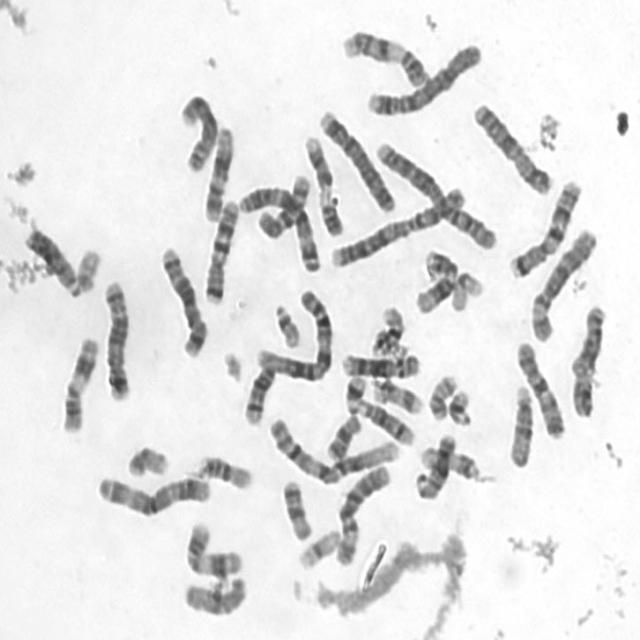A1: (264, 409, 398, 487), (250, 283, 335, 382)
A2: (368, 134, 500, 252), (325, 178, 468, 270)
A3: (232, 178, 322, 274), (91, 467, 212, 518)
B4: (361, 35, 484, 118), (313, 102, 398, 214)
B5: (154, 239, 209, 359), (97, 272, 132, 402)
C10: (510, 334, 567, 440), (253, 168, 313, 241)
C11: (56, 330, 100, 435), (180, 516, 244, 579)
C12: (198, 118, 236, 223), (410, 244, 460, 315)
C6: (524, 221, 600, 344), (330, 457, 392, 567)
C7: (504, 171, 584, 280), (198, 192, 241, 306)
C8: (312, 535, 421, 617), (173, 87, 220, 174)
C9: (336, 24, 431, 90), (298, 127, 345, 238)
D13: (19, 221, 82, 298), (410, 427, 458, 501)
D14: (354, 394, 416, 447), (237, 356, 278, 426)
D15: (177, 570, 250, 618), (503, 378, 535, 470)
E16: (192, 448, 255, 491), (366, 299, 407, 358)
E17: (414, 440, 482, 482), (366, 373, 424, 416)
E18: (277, 472, 314, 542), (321, 406, 363, 464)
F19: (293, 522, 342, 571), (445, 264, 486, 314)
F20: (422, 368, 460, 422), (122, 438, 171, 479)
G21: (338, 368, 368, 414), (444, 383, 474, 428)
G22: (269, 296, 302, 349), (70, 241, 102, 295)
X: (467, 96, 555, 196)
